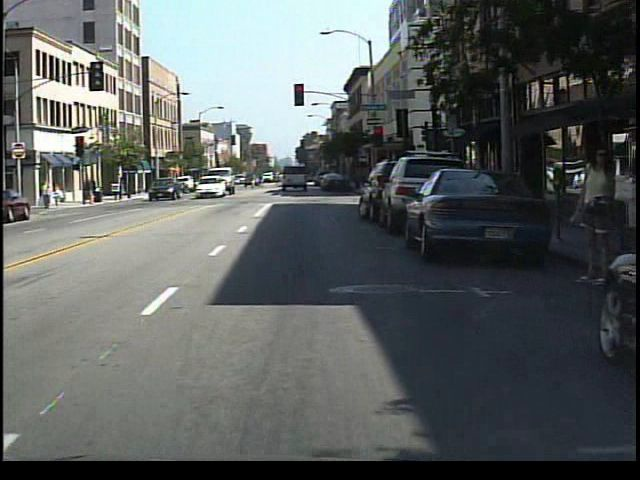person: (571, 141, 620, 296), (610, 112, 638, 245), (43, 179, 57, 213), (54, 181, 69, 210)
